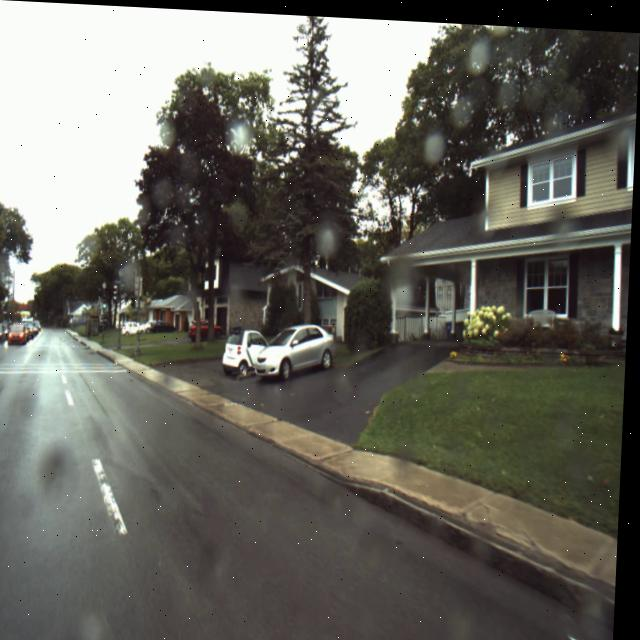car: (11, 325, 30, 345), (0, 326, 1, 345)
